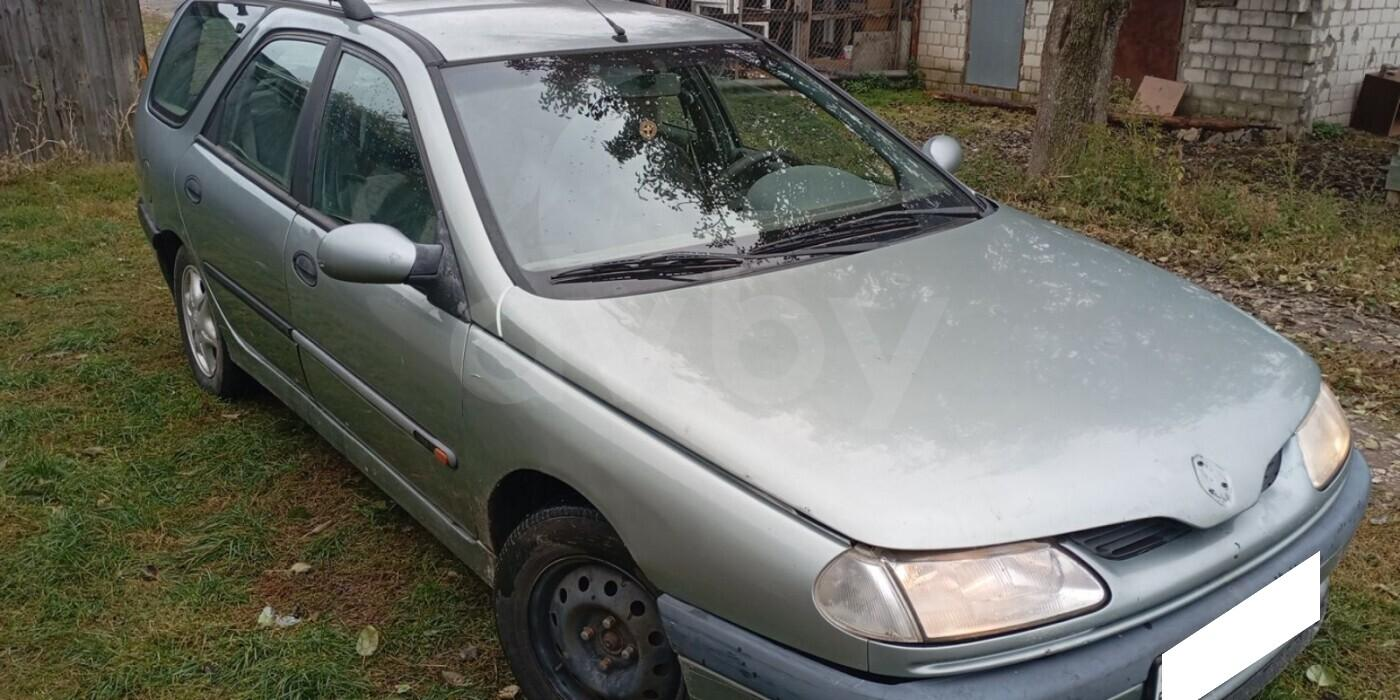Lahuna_1993-1999: (108, 0, 1366, 700)
